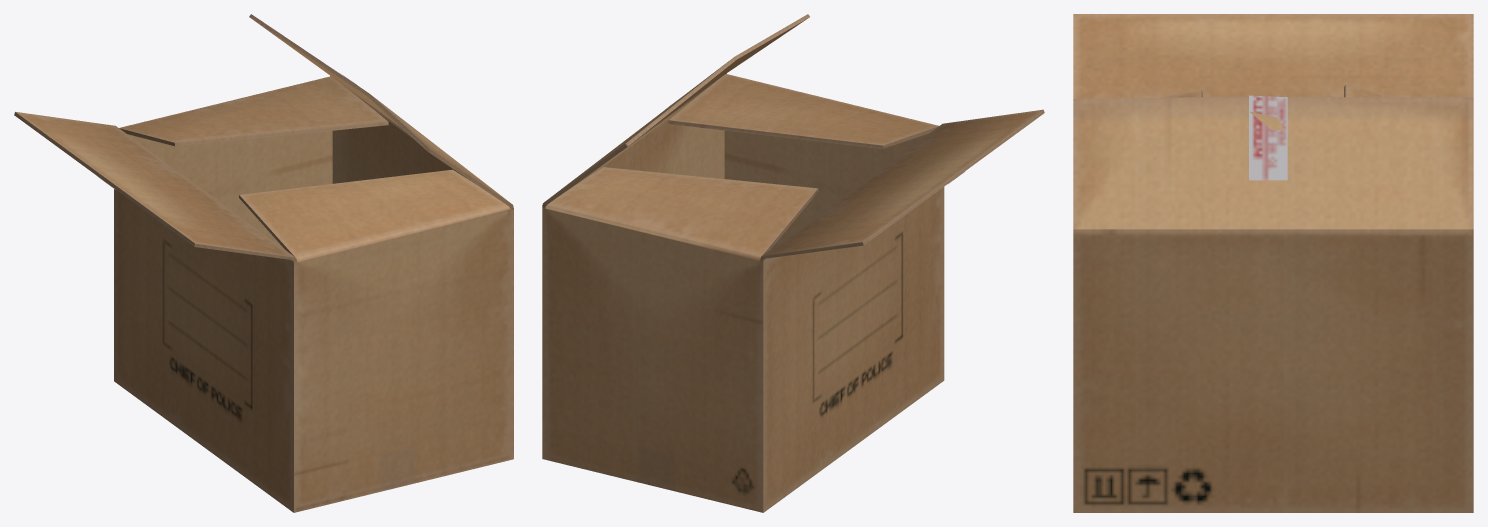
File: FBX_BoxBigOpenA.fbx
The picture shows the model from 3 angles, left to right: view 1: azimuth 30°, elevation 25°; view 2: azimuth 150°, elevation 25°; view 3: azimuth 270°, elevation 25°; orthographic projection. The views are drawn at different scales.
Visible parts, largest first — view 1: SM_BoxBigOpenA; view 2: SM_BoxBigOpenA; view 3: SM_BoxBigOpenA.
Boxes of the visible parts, x1,y1,x2,y2 form: SM_BoxBigOpenA: [14, 14, 513, 512]; SM_BoxBigOpenA: [542, 14, 1044, 512]; SM_BoxBigOpenA: [1073, 14, 1473, 512].
Size of the model in its own units: 0.4004 by 0.4027 by 0.39.
